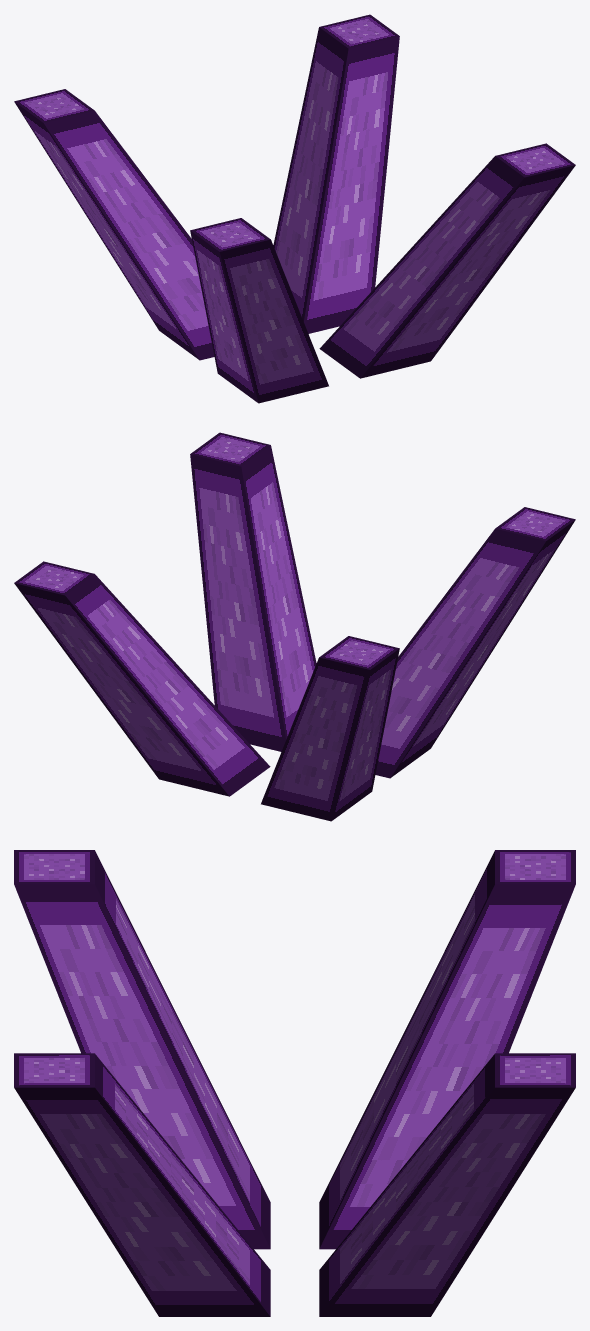
Rendered from pedestalhandles.obj.
3 renders of one model, top to bottom at view 1: azimuth 30°, elevation 25°; view 2: azimuth 150°, elevation 25°; view 3: azimuth 270°, elevation 25°, orthographic. The views are drawn at different scales.
Visible parts, largest first — view 1: Cube.000_Cube.001; view 2: Cube.000_Cube.001; view 3: Cube.000_Cube.001.
Part boxes in pixels (x1=…): Cube.000_Cube.001: x1=14, y1=14, x2=575, y2=403; Cube.000_Cube.001: x1=14, y1=432, x2=575, y2=821; Cube.000_Cube.001: x1=14, y1=850, x2=575, y2=1316.
Size of the model in its own units: 0.7008 by 0.4 by 0.7008.
